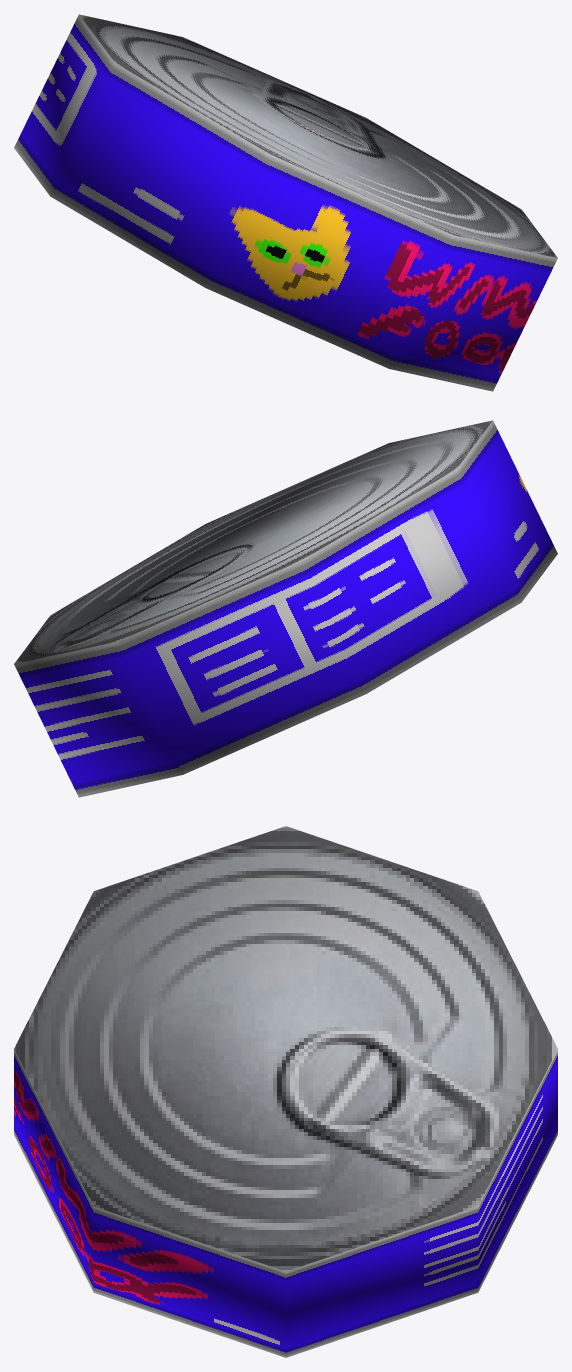
Rendered from cat-food-can.glb.
The picture shows the model from 3 angles, top to bottom: view 1: azimuth 30°, elevation 25°; view 2: azimuth 150°, elevation 25°; view 3: azimuth 270°, elevation 25°; orthographic projection.
Visible parts, largest first — view 1: Can; view 2: Can; view 3: Can.
Boxes of the visible parts, <box> form: Can: <box>14,14,557,391</box>; Can: <box>14,420,557,797</box>; Can: <box>14,826,557,1357</box>.
Bounding box in the file's own units: 0.3347 × 0.2464 × 0.3332.
Materials: 1 (1 with a texture image).
